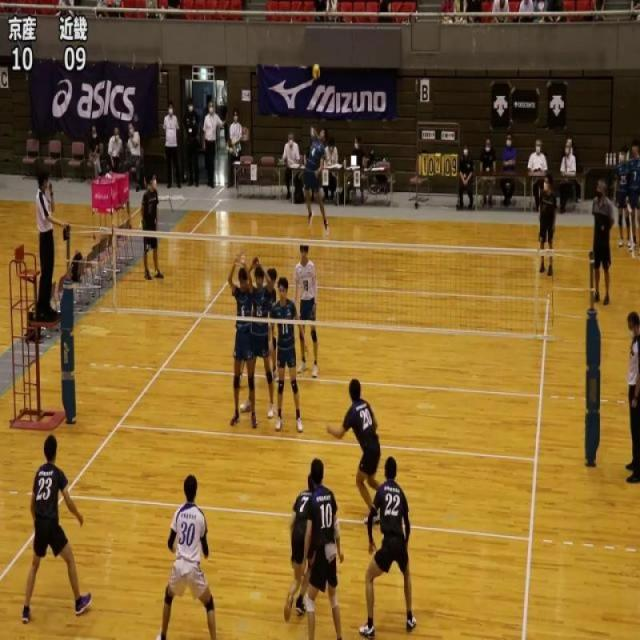volleyball: (312, 62, 321, 82)
